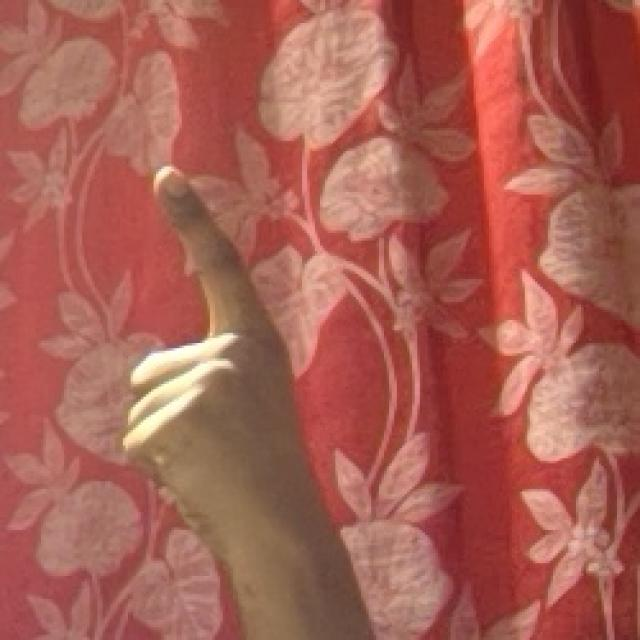Alphabet-I: (120, 136, 432, 640)
